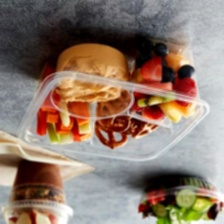plastic_box: (11, 24, 216, 166), (0, 154, 78, 224), (131, 171, 224, 224)
